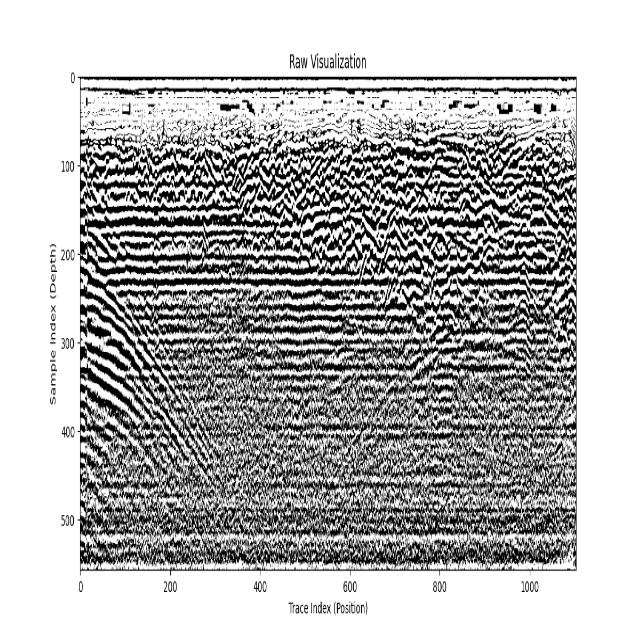anomaly: (308, 324, 573, 562), (81, 162, 228, 573)
